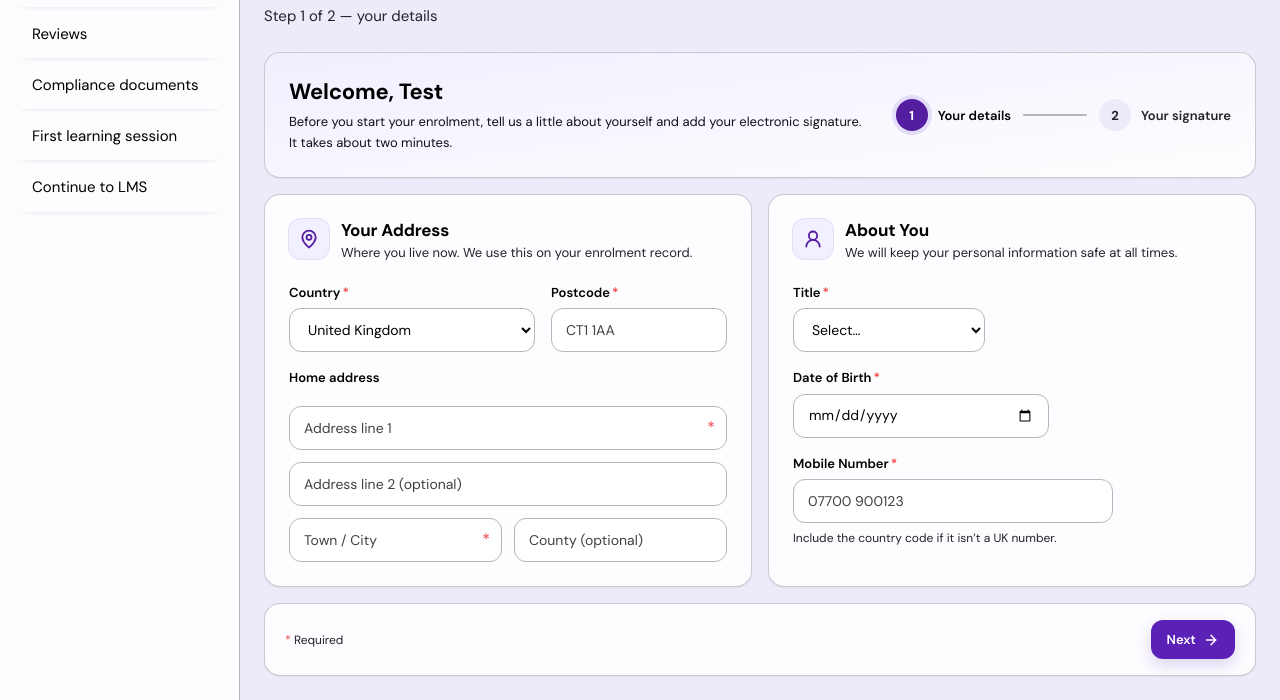
Test: LearnerWelcomePage › keeps the learner on the details screen until the required answers are given
This screenshot has width=1280, height=700.
(page scrolled)
What coordinates should you click on to do the following:
click the button "Next"
I would click on:
 (1193, 640)
Its box is [1151,620,1235,659].
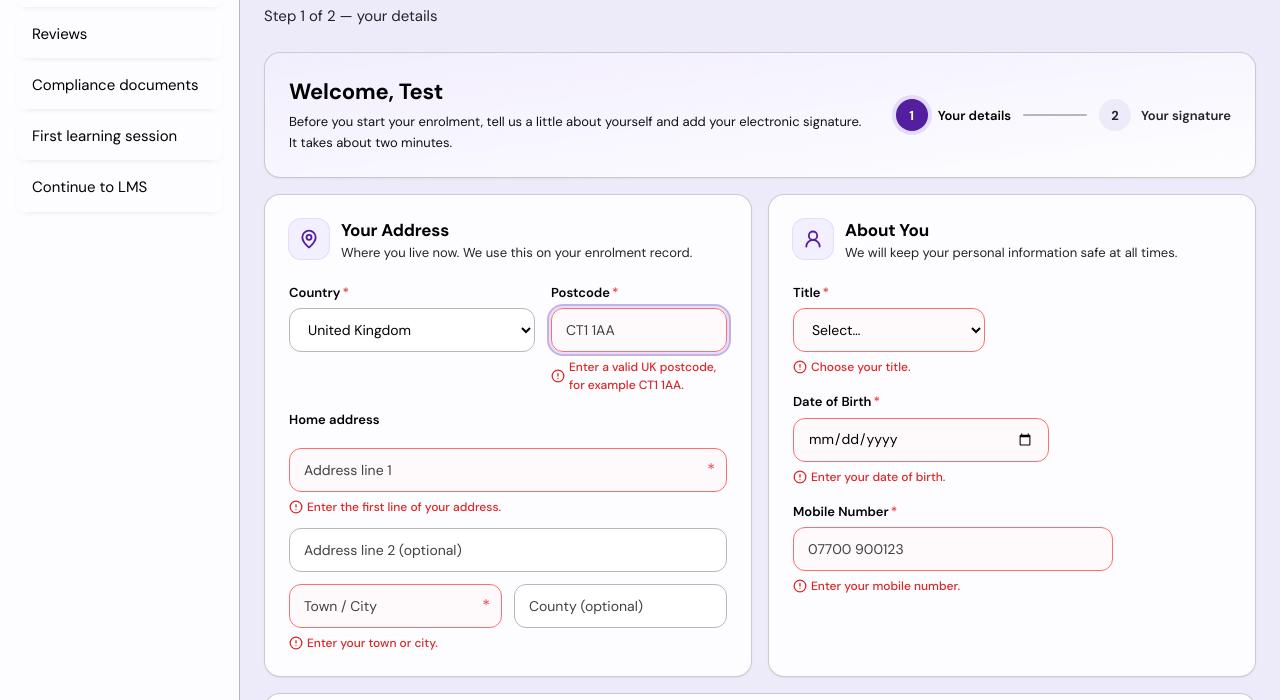
Expected: the text "Choose your title." is shown, [793,359,911,375]
Expected: the text "Enter a valid UK postcode, for example CT1 1AA." is shown, [551,358,727,394]
Expected: the text "Enter the first line of your address." is shown, [289,499,501,515]
